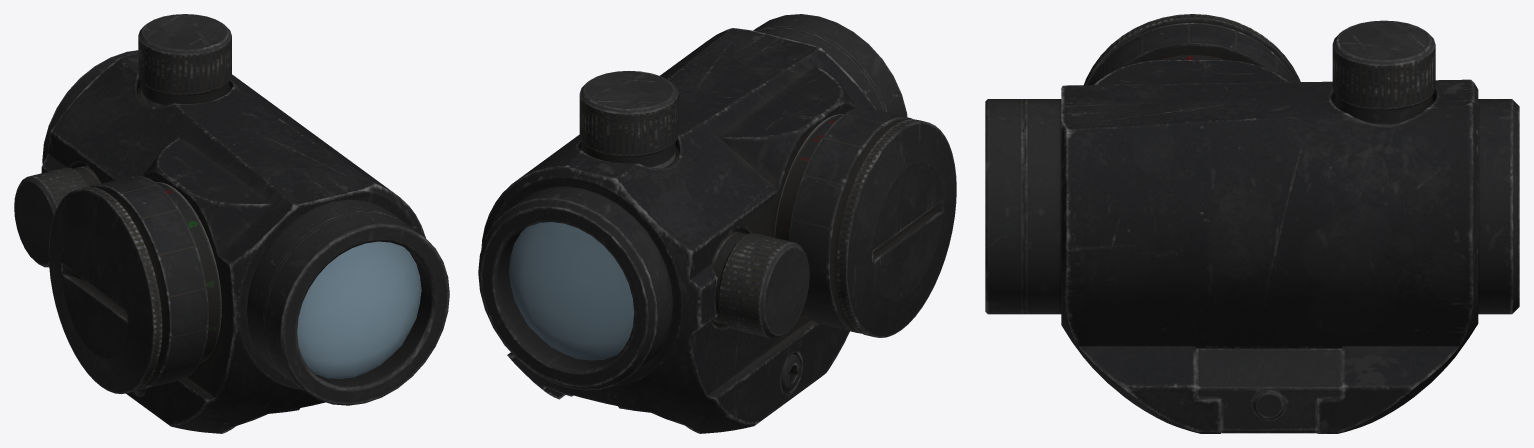
The model's file is 1.5x scope.glb.
The picture shows the model from 3 angles, left to right: view 1: azimuth 30°, elevation 25°; view 2: azimuth 150°, elevation 25°; view 3: azimuth 270°, elevation 25°; orthographic projection. The views are drawn at different scales.
Visible parts, largest first — view 1: wRing.016, wRing.015, wRing.011, wSphere.003, wRing.013, wRing.014, wRing.010; view 2: wRing.016, wRing.015, wRing.010, wSphere.002, wRing.013, wRing.014, wRing.011, wRing.017; view 3: wRing.016, wRing.011, wPlane.002, wRing.013, wRing.010, wRing.015, wRing.017.
Part boxes in pixels (x1,y1,x2,y2): wRing.016: [41, 52, 425, 433]; wRing.015: [48, 175, 221, 393]; wRing.011: [247, 199, 449, 405]; wSphere.003: [297, 241, 421, 378]; wRing.013: [138, 14, 231, 106]; wRing.014: [14, 166, 101, 267]; wRing.010: [42, 50, 138, 164]; wRing.016: [481, 28, 876, 433]; wRing.015: [774, 107, 956, 337]; wRing.010: [478, 186, 673, 390]; wSphere.002: [509, 222, 634, 360]; wRing.013: [579, 71, 678, 168]; wRing.014: [712, 231, 809, 338]; wRing.011: [753, 14, 907, 116]; wRing.017: [781, 354, 800, 390]; wRing.016: [1061, 60, 1478, 433]; wRing.011: [985, 99, 1061, 314]; wPlane.002: [1196, 348, 1342, 433]; wRing.013: [1332, 20, 1435, 124]; wRing.010: [1478, 99, 1519, 314]; wRing.015: [1084, 14, 1300, 85]; wRing.017: [1253, 389, 1285, 419].
Bounding box in the file's own units: 0.101 × 0.1064 × 0.1512.
Materials: 2 (2 with a texture image).
